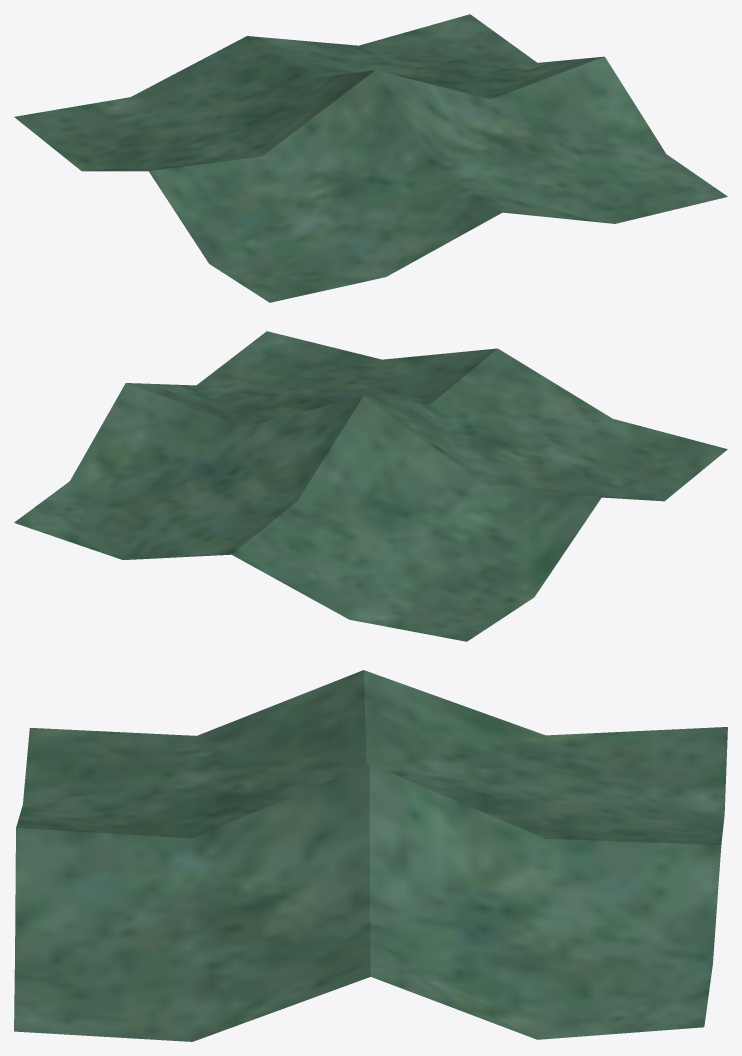
The model's file is poi_nboo_tent_large_l3.fbx.
3 views of the same model, one above another, from view 1: azimuth 30°, elevation 25°; view 2: azimuth 150°, elevation 25°; view 3: azimuth 270°, elevation 25° (orthographic). The views are drawn at different scales.
Visible parts, largest first — view 1: mesh_node; view 2: mesh_node; view 3: mesh_node.
Part boxes in pixels (box(x1,y1,x2,y2)): mesh_node: box(14, 14, 727, 302); mesh_node: box(14, 331, 727, 641); mesh_node: box(14, 670, 727, 1041).
Bounding box in the file's own units: 10.83 × 2.1 × 10.58.
1 material, 1 textured.
